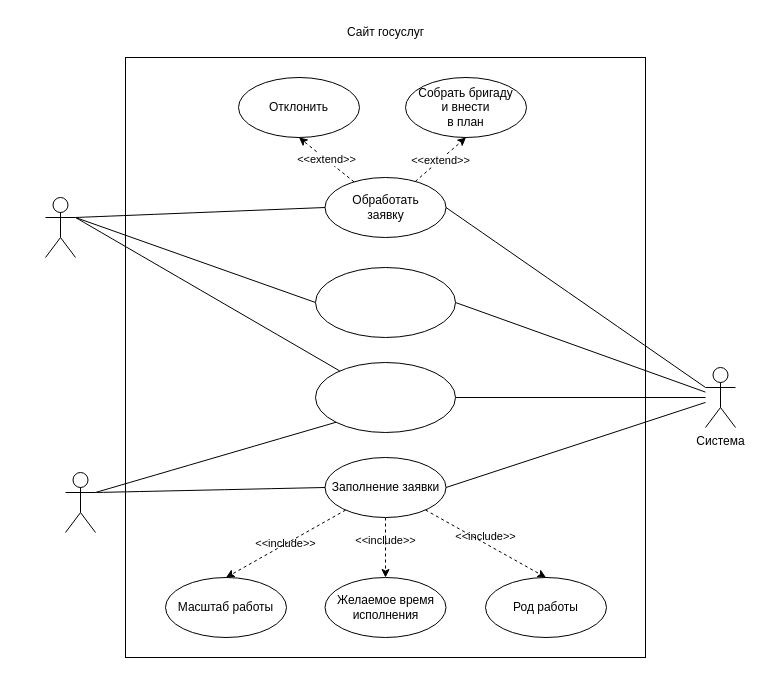
The diagram is 762 pixels wide and 675 high, and some of its shapes have lost their labels. Each missing label, with the centre of its shape:
Администратор: the point at 60,227
Клиент: the point at 80,502
Просмотр заявок: the point at 385,302
Просмотр планера работ: the point at 385,397
